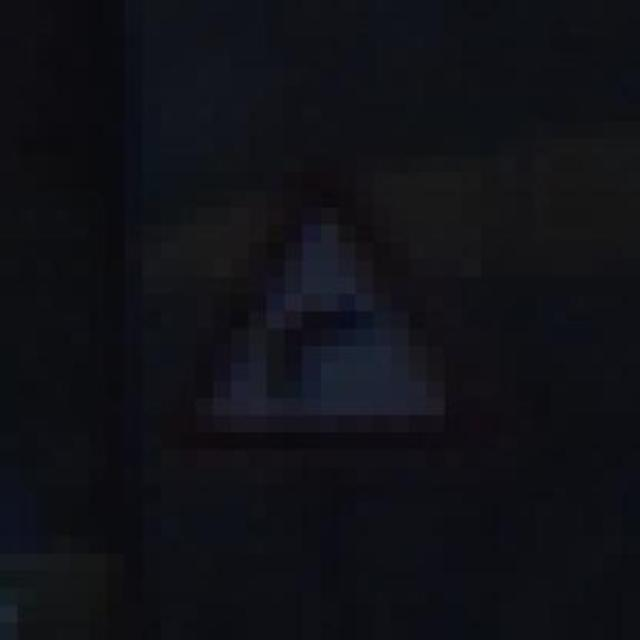Dangerous Rright Curve Ahead: (125, 172, 480, 485)
